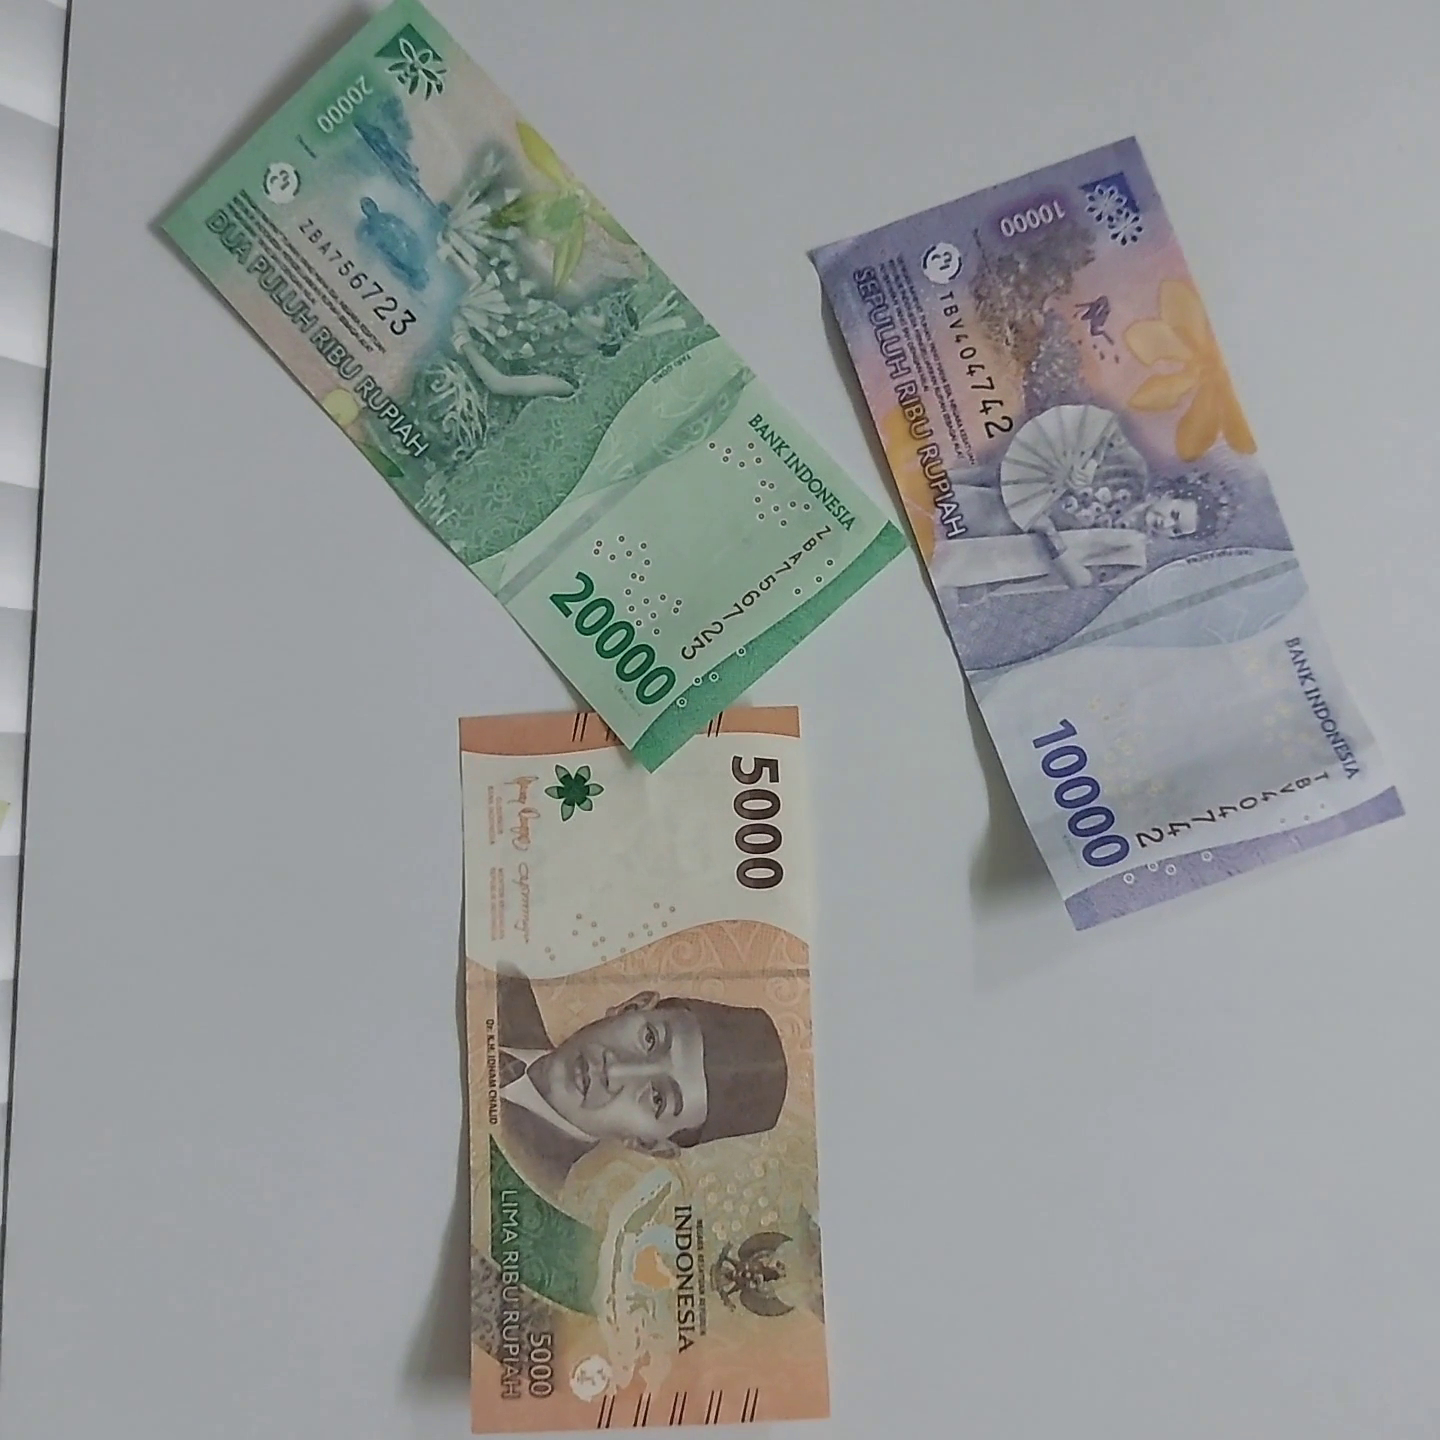10k: (782, 268, 1162, 998)
20k: (907, 547, 1251, 1292)
5k: (442, 698, 870, 1422)
